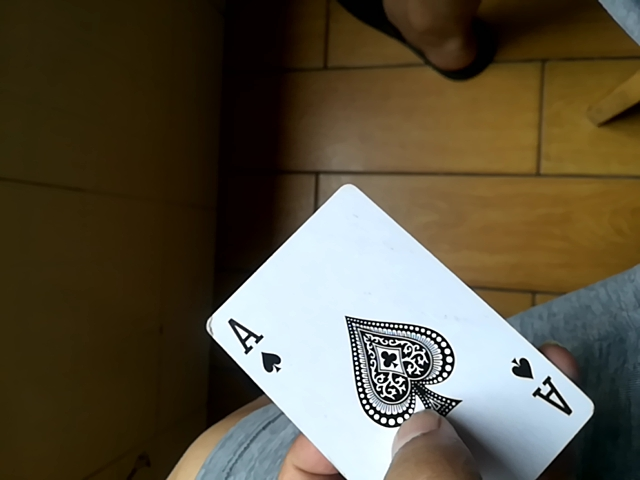ht a: (204, 178, 596, 478)
